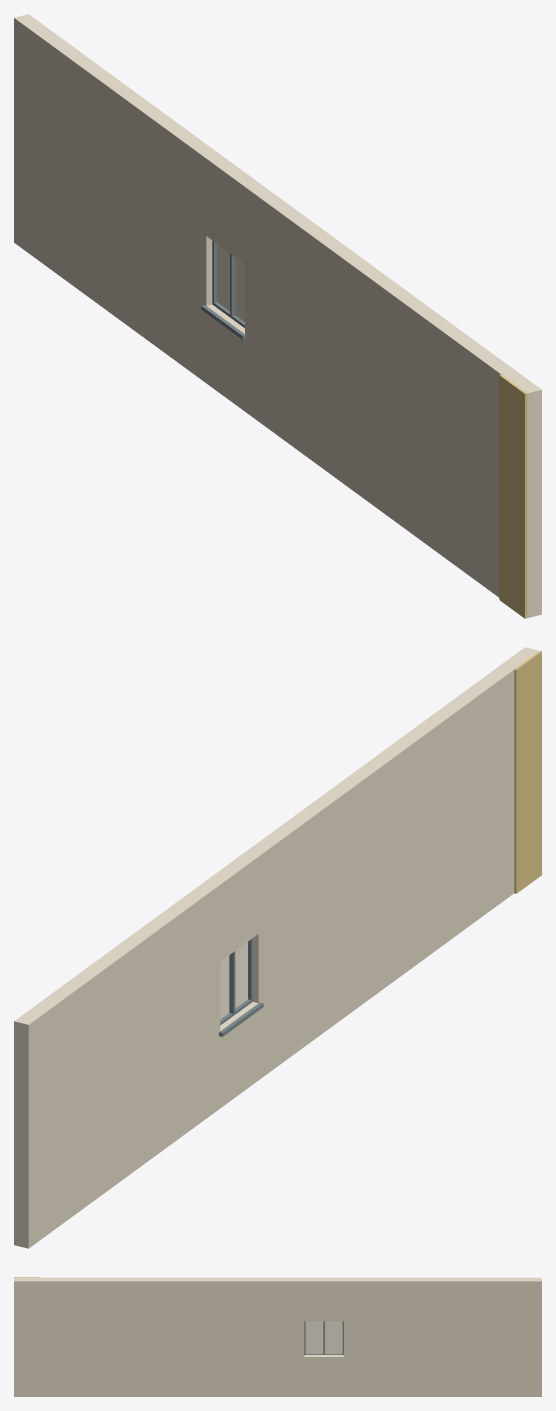
Rendered from tb_mansion_module_end_l_01.fbx.
The picture shows the model from 3 angles, top to bottom: view 1: azimuth 30°, elevation 25°; view 2: azimuth 150°, elevation 25°; view 3: azimuth 270°, elevation 25°; orthographic projection. The views are drawn at different scales.
Visible parts, largest first — view 1: tb_mansion_module_end_l_01; view 2: tb_mansion_module_end_l_01; view 3: tb_mansion_module_end_l_01.
Boxes of the visible parts, x1,y1,x2,y2 form: tb_mansion_module_end_l_01: (14, 14, 541, 618); tb_mansion_module_end_l_01: (14, 647, 541, 1248); tb_mansion_module_end_l_01: (14, 1277, 541, 1396).
Size of what is drawn, in the model's own units: 0.25 by 2.9 by 12.
2 materials, 2 textured.
